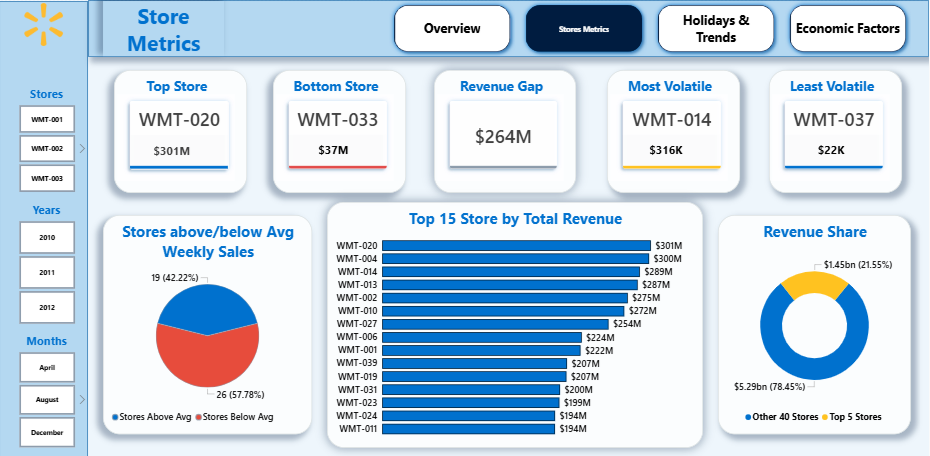

Layout of this report page (visuals, bound fields, positions):
{"tool":"powerbi","page":{"name":"Stores Metrics","canvas":[1650,810],"ordinal":1},"visuals":[{"type":"shape","box":[0,1,157.9,809],"z":0},{"type":"cardVisual","title":"Top Store","fields":{"Data":["Walmart_Sales.Top Store Name"]},"box":[204,124.2,236,218.2],"z":1000},{"type":"shape","title":"Store Metrics","box":[157.9,0,1492.1,101.1],"z":2000},{"type":"slicer","title":"Years","fields":{"Values":["Walmart_Sales.Year"]},"box":[0,357.7,158.5,217.5],"z":3000},{"type":"slicer","title":"Months","fields":{"Values":["Calendar.Month_Name"]},"box":[0,589.9,158.5,204.6],"z":4000},{"type":"slicer","title":"Stores","fields":{"Values":["Walmart_Sales.Store_ID"]},"box":[0,153,158.5,189.9],"z":5000},{"type":"pageNavigator","box":[691.9,0,926.1,101.1],"z":6000},{"type":"image","box":[0,0,157.9,86.9],"z":7000},{"type":"cardVisual","title":"Bottom Store","fields":{"Data":["Walmart_Sales.Bottom Store Name"]},"box":[486.1,124.2,236,218.2],"z":8000},{"type":"cardVisual","title":"Revenue Gap","fields":{"Data":["Walmart_Sales.Revenue Gap"]},"box":[771.8,124.2,251.9,218.2],"z":9000},{"type":"cardVisual","title":"Most Volatile","fields":{"Data":["Walmart_Sales.Most Volatile Store"]},"box":[1078.7,124.2,236,218.2],"z":10000},{"type":"cardVisual","title":"Least Volatile","fields":{"Data":["Walmart_Sales.Least Volatile Store"]},"box":[1366.1,124.2,236,218.2],"z":11000},{"type":"pieChart","title":"Stores above/below Avg Weekly Sales","fields":{"Y":["Walmart_Sales.Stores Above Network Avg","Walmart_Sales.Stores Below Network Avg"]},"box":[184.5,381.5,370.8,388.5],"z":12000},{"type":"donutChart","title":"Revenue Share","fields":{"Category":["Walmart_Sales.Store_Performance_Group"],"Y":["Walmart_Sales.Total Revenue"]},"box":[1275.6,381.5,342.4,388.5],"z":13000},{"type":"barChart","title":"Total Revenue by Store","fields":{"Y":["Walmart_Sales.Total Revenue"],"Category":["Walmart_Sales.Store_ID"]},"box":[581.9,358.4,667.1,424],"z":14000},{"type":"textbox","title":"Store Metrics","box":[184.5,1.8,214.7,99.4],"z":15000}]}

Visuals, with their boxes in screenshot pixels (x1, y1, x2, y2), scaled from the page's 1650x810 canvas onto the 930x456 screenshot:
shape: <box>0,1,89,455</box>
"Top Store" cardVisual: <box>115,70,248,193</box>
"Store Metrics" shape: <box>89,0,929,57</box>
"Years" slicer: <box>0,201,89,324</box>
"Months" slicer: <box>0,332,89,447</box>
"Stores" slicer: <box>0,86,89,193</box>
pageNavigator: <box>390,0,912,57</box>
image: <box>0,0,89,49</box>
"Bottom Store" cardVisual: <box>274,70,407,193</box>
"Revenue Gap" cardVisual: <box>435,70,577,193</box>
"Most Volatile" cardVisual: <box>608,70,741,193</box>
"Least Volatile" cardVisual: <box>770,70,903,193</box>
"Stores above/below Avg Weekly Sales" pieChart: <box>104,215,313,433</box>
"Revenue Share" donutChart: <box>719,215,912,433</box>
"Total Revenue by Store" barChart: <box>328,202,704,440</box>
"Store Metrics" textbox: <box>104,1,225,57</box>
